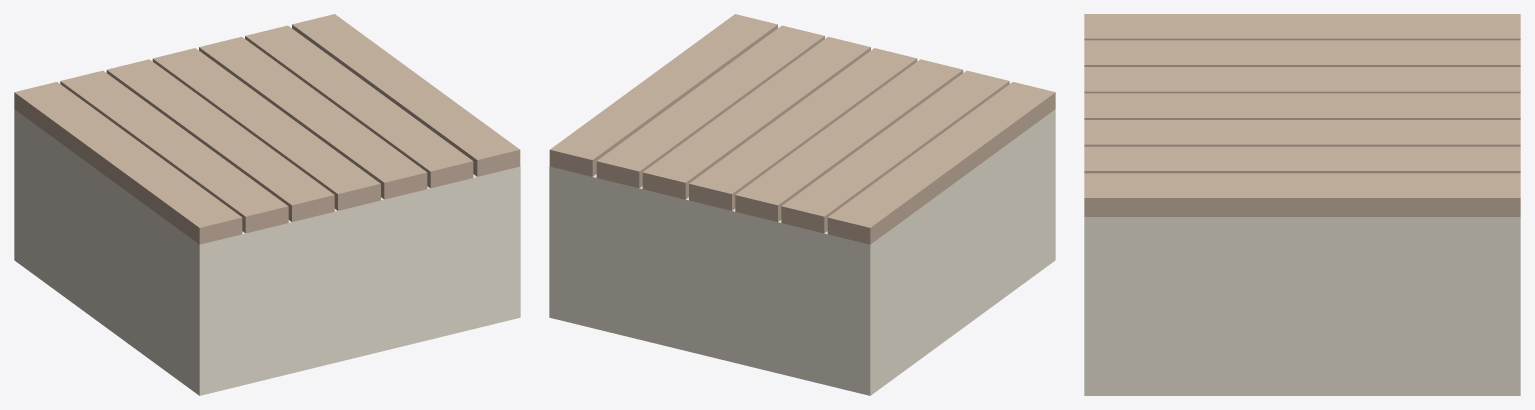
The model's file is plattform.dae.
3 views of the same model, side by side, from view 1: azimuth 30°, elevation 25°; view 2: azimuth 150°, elevation 25°; view 3: azimuth 270°, elevation 25° (orthographic). The views are drawn at different scales.
Parts seen in each view (by area): view 1: Main.001, Tile_wood.001; view 2: Main.001, Tile_wood.001; view 3: Tile_wood.001, Main.001.
Part boxes in pixels (box(x1,y1,x2,y2)): Main.001: box(14, 109, 520, 395); Tile_wood.001: box(14, 14, 520, 244); Main.001: box(549, 109, 1055, 395); Tile_wood.001: box(549, 14, 1055, 244); Tile_wood.001: box(1084, 14, 1520, 217); Main.001: box(1084, 217, 1520, 395).
Size of the model in its own units: 60 by 60 by 30.
